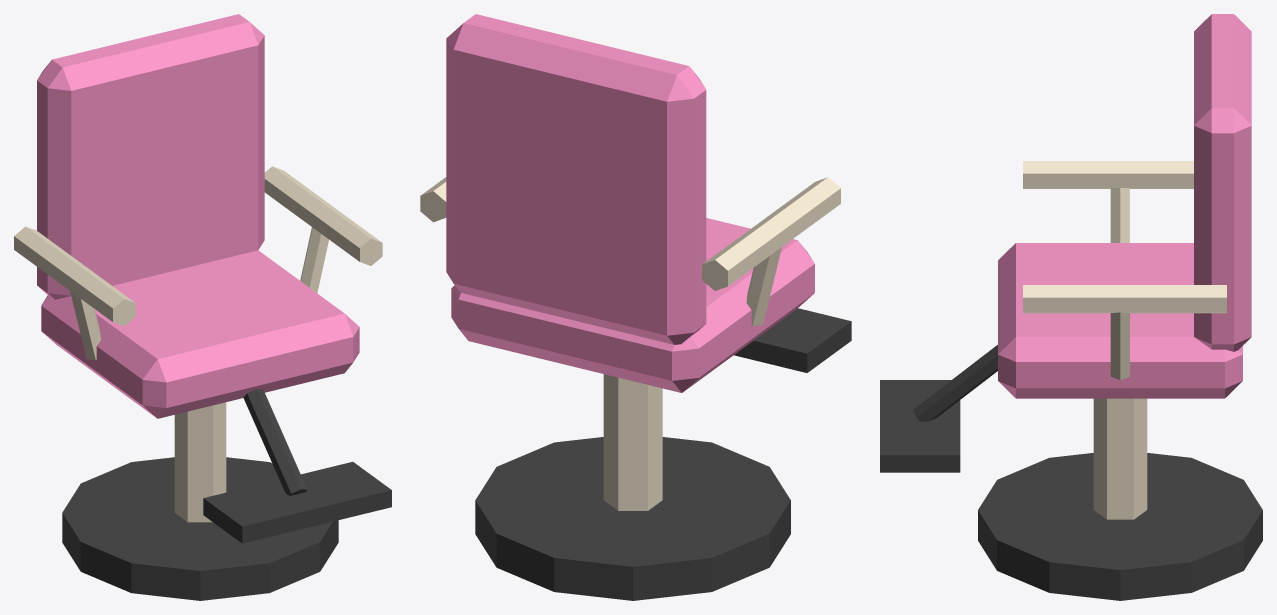
3 views of the same model, side by side, from view 1: azimuth 30°, elevation 25°; view 2: azimuth 150°, elevation 25°; view 3: azimuth 270°, elevation 25° (orthographic). The views are drawn at different scales.
Parts seen in each view (by area): view 1: Back, Seat, Base, Footrest, Hydraulic post, Arm, Arm.001, Footrest support, Arm support.001, Arm support; view 2: Back, Base, Seat, Hydraulic post, Arm, Footrest, Arm support, Arm.001; view 3: Base, Seat, Back, Hydraulic post, Footrest, Arm.001, Arm, Footrest support, Arm support.001, Arm support.
Boxes of the visible parts, x1,y1,x2,y2 form: Back: (37, 14, 264, 299); Seat: (41, 250, 359, 418); Base: (62, 457, 338, 600); Footrest: (203, 461, 391, 543); Hydraulic post: (174, 402, 226, 522); Arm: (14, 226, 135, 326); Arm.001: (264, 166, 382, 265); Footrest support: (243, 389, 307, 495); Arm support.001: (300, 227, 328, 292); Arm support: (70, 291, 100, 360); Back: (446, 14, 706, 344); Base: (475, 437, 790, 600); Seat: (451, 218, 814, 392); Hydraulic post: (603, 374, 662, 510); Arm: (702, 177, 840, 290); Footrest: (734, 308, 851, 372); Arm support: (746, 247, 781, 326); Arm.001: (420, 177, 446, 222); Base: (978, 453, 1262, 600); Seat: (998, 243, 1242, 398); Back: (1194, 14, 1251, 351); Hydraulic post: (1093, 398, 1147, 519); Footrest: (880, 380, 960, 472); Arm.001: (1023, 285, 1226, 313); Arm: (1023, 161, 1193, 188); Footrest support: (913, 345, 997, 421); Arm support.001: (1110, 312, 1129, 380); Arm support: (1110, 187, 1129, 242).
Bounding box in the file's own units: 0.7927 × 1.31 × 0.946.
1 material, 1 textured.
